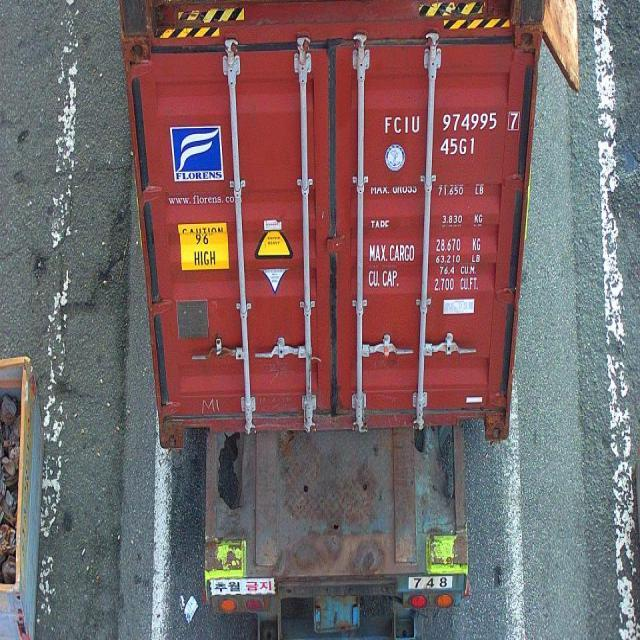ISO: (438, 138, 479, 156)
container_number: (382, 108, 520, 137)
